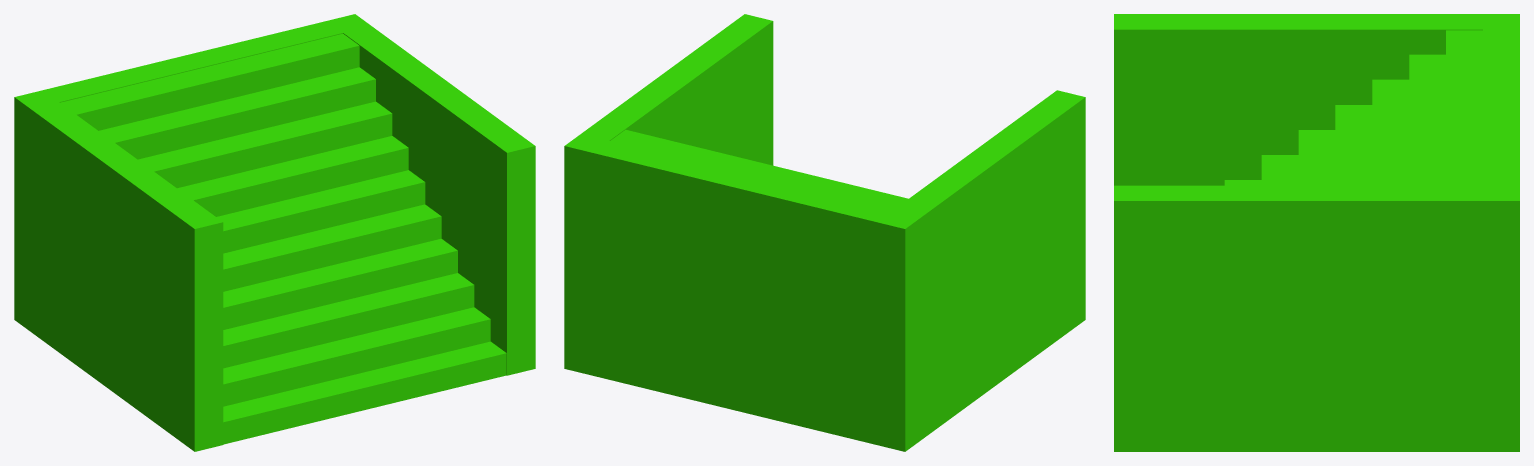
The model's file is stairs02.fbx.
3 views of the same model, side by side, from view 1: azimuth 30°, elevation 25°; view 2: azimuth 150°, elevation 25°; view 3: azimuth 270°, elevation 25° (orthographic). The views are drawn at different scales.
Parts seen in each view (by area): view 1: stairs02; view 2: stairs02; view 3: stairs02.
Boxes of the visible parts, left/top/right/bottom form: stairs02: left=14, top=14, right=535, bottom=451; stairs02: left=564, top=14, right=1085, bottom=451; stairs02: left=1114, top=14, right=1519, bottom=451.
Size of the model in its own units: 480 by 300 by 440.
